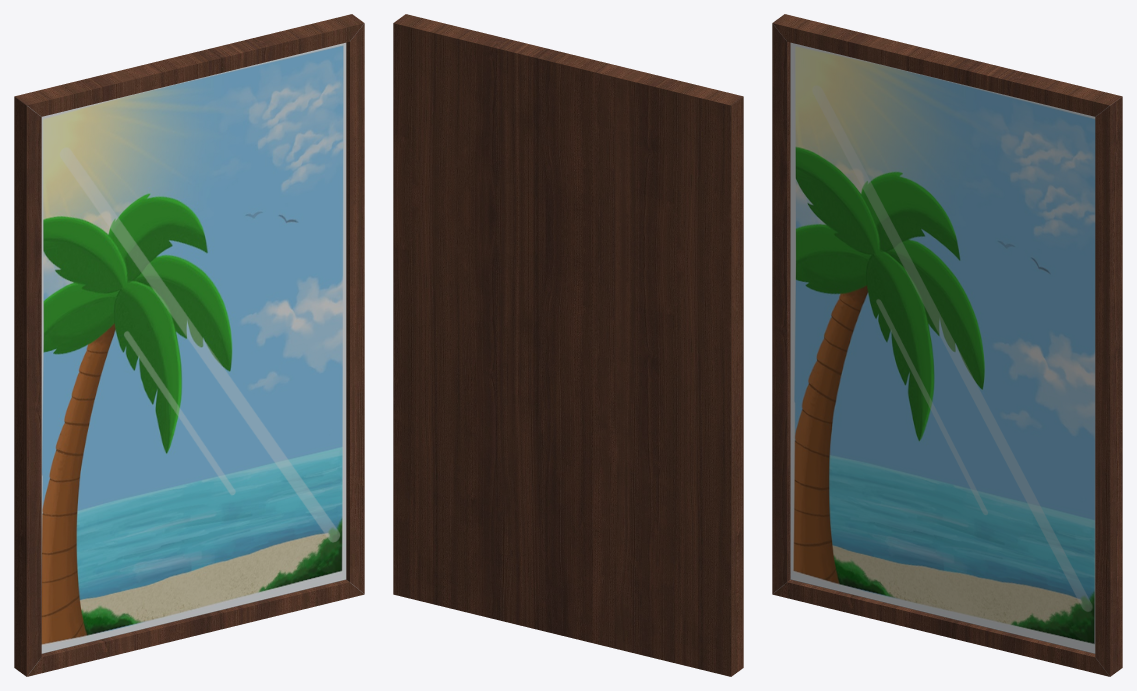
The model's file is Palmtree Poster Framed.fbx.
3 views of the same model, side by side, from view 1: azimuth 30°, elevation 25°; view 2: azimuth 150°, elevation 25°; view 3: azimuth 330°, elevation 25° (orthographic).
Visible parts, largest first — view 1: Cube; view 2: Cube; view 3: Cube.
Part boxes in pixels (x1=…): Cube: x1=14, y1=14, x2=364, y2=676; Cube: x1=393, y1=14, x2=743, y2=676; Cube: x1=772, y1=14, x2=1122, y2=676.
Bounding box in the file's own units: 4.09 × 6.6 × 0.2621.
Materials: 1 (1 with a texture image).
